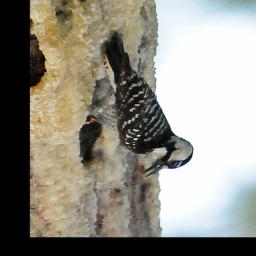Woodpecker: (87, 31, 196, 177)
